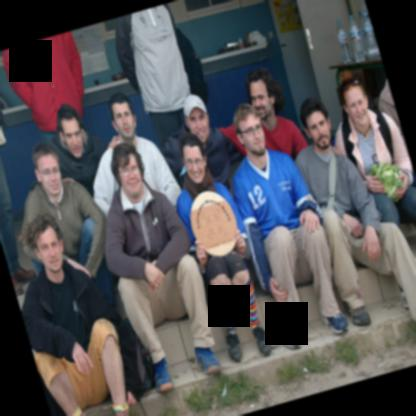backpack: (117, 320, 157, 401), (174, 24, 210, 103)
